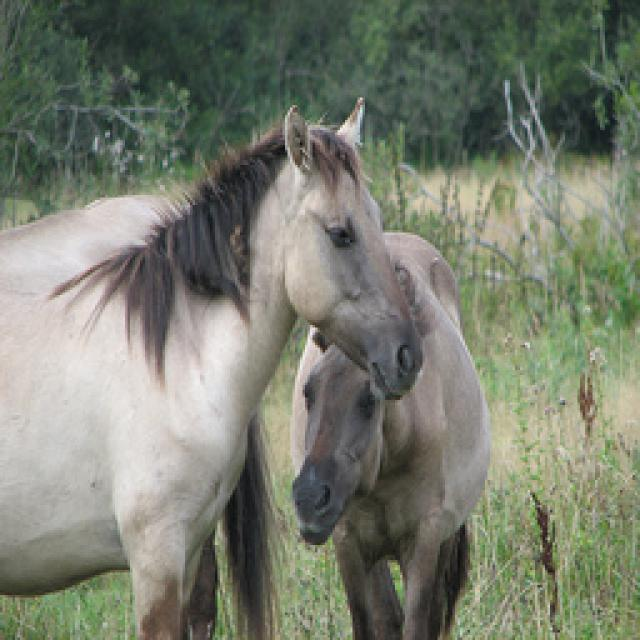not_pig: (0, 94, 422, 637), (288, 230, 490, 638)
